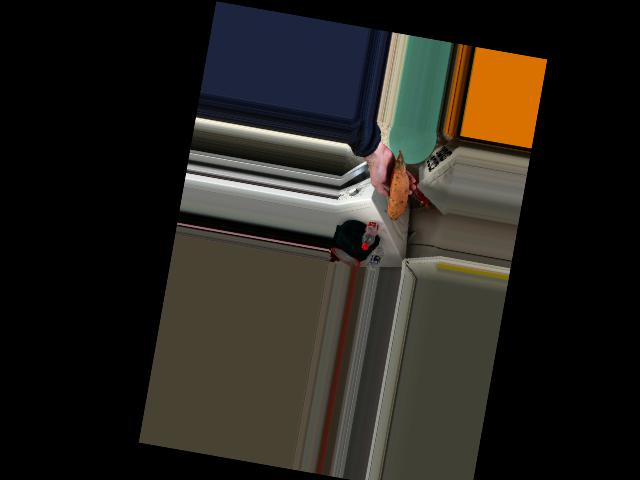sweet_potato: (382, 152, 415, 222)
